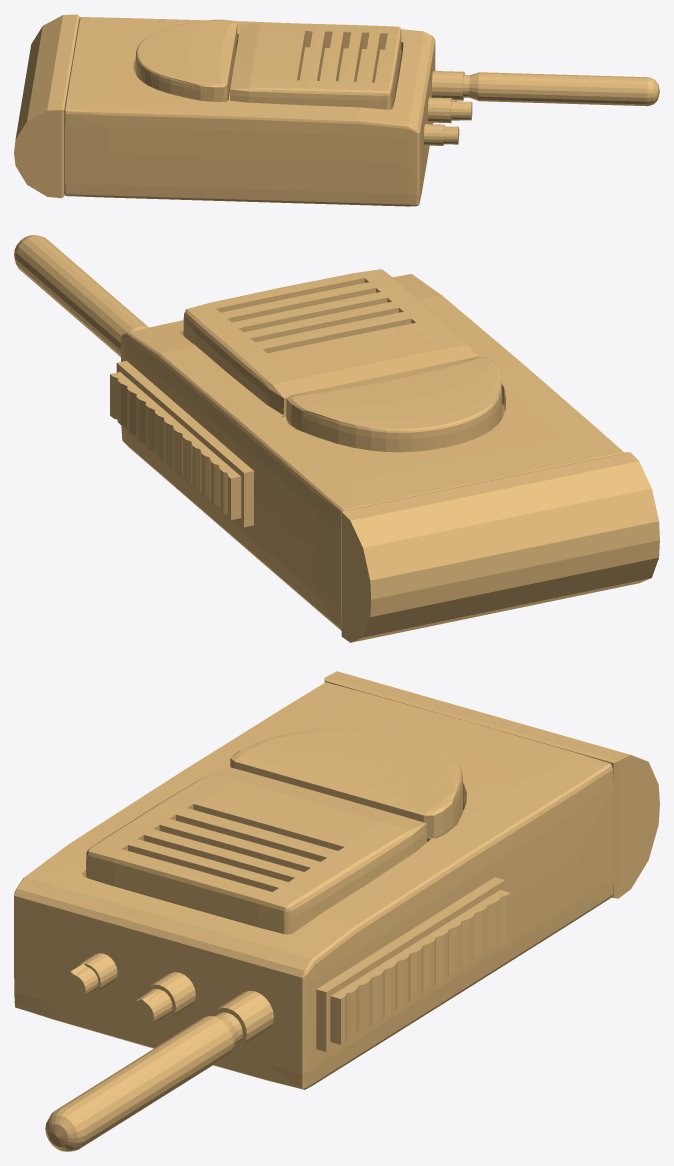
The model's file is Radio_Firewatch.fbx.
3 views of the same model, one above another, from view 1: azimuth 30°, elevation 25°; view 2: azimuth 150°, elevation 25°; view 3: azimuth 270°, elevation 25° (orthographic). The views are drawn at different scales.
Parts seen in each view (by area): view 1: Radio; view 2: Radio; view 3: Radio.
Part boxes in pixels (x1=…): Radio: x1=14, y1=14, x2=659, y2=206; Radio: x1=14, y1=235, x2=659, y2=642; Radio: x1=14, y1=671, x2=659, y2=1151.
Size of the model in its own units: 0.1847 by 0.033 by 0.1205.
